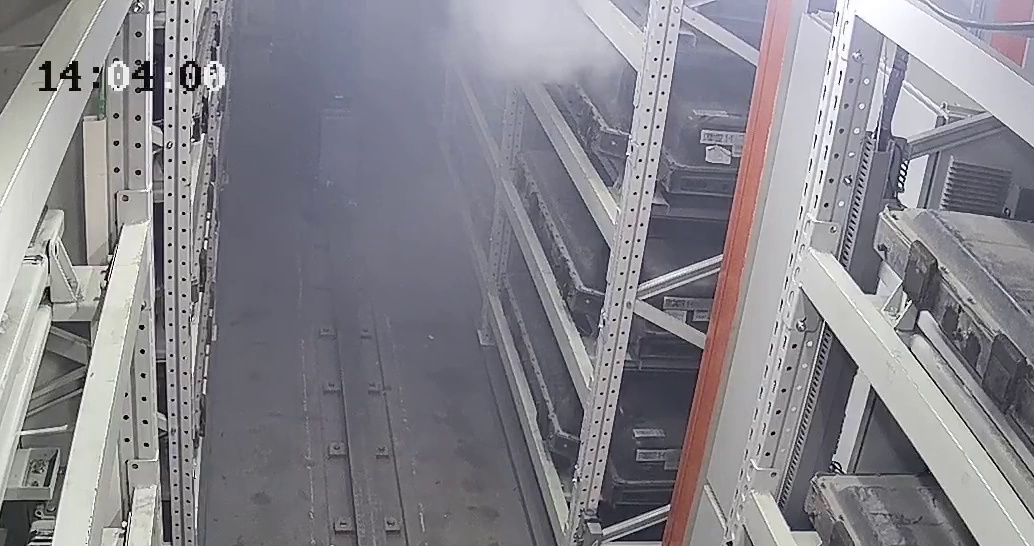smoke: (444, 5, 623, 94)
